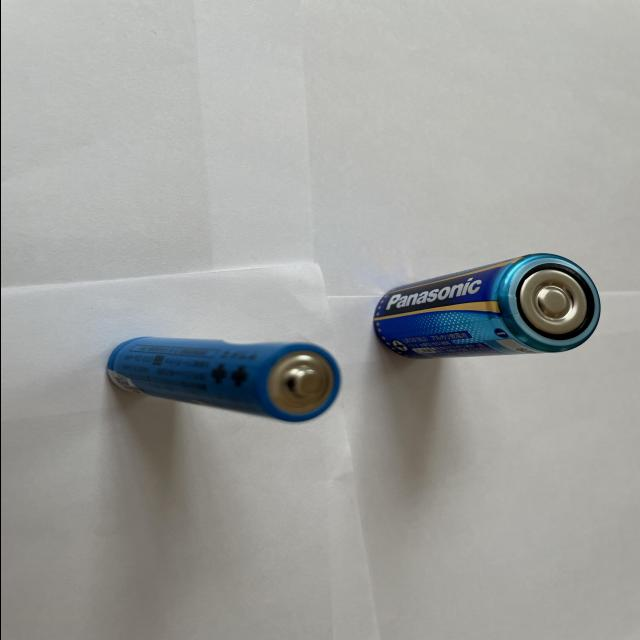AA: (105, 336, 343, 424)
